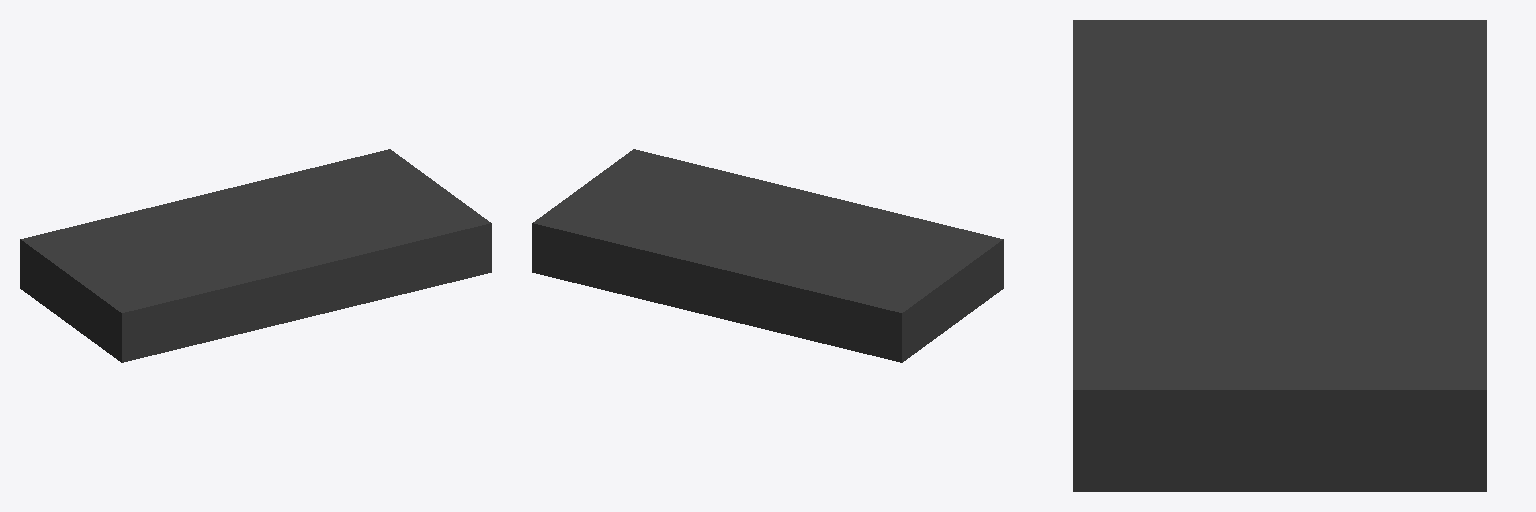
URDF robot description (box.urdf):
<?xml version="1.0" ?>
<robot name="box.urdf">
  <link name="baseLink">
    <contact>
      <lateral_friction value="1.0"/>
      <rolling_friction value="0.0001"/>
      <inertia_scaling value="3.0"/>
    </contact>
    <inertial>
      <origin rpy="0 0 0" xyz="0 0 0"/>
       <mass value="0.1"/>
       <inertia ixx="1" ixy="0" ixz="0" iyy="1" iyz="0" izz="1"/>
    </inertial>
    <visual>
      <origin rpy="0 0 0" xyz="0 0 0"/>
      <geometry>
        <!-- <box size="0.78 0.37 0.1"/> -->
        <mesh filename="box/box.obj" scale="0.78 0.37 0.1"/>
      </geometry>
      <material name="white">
        <color rgba="0.3 0.3 0.3 1"/>
      </material>
    </visual>
    <collision>
      <origin rpy="0 0 0" xyz="0 0 0"/>
      <geometry>
        <mesh filename="box/box.obj" scale="0.78 0.37 0.1"/>
	 	    <!-- <box size="0.78 0.37 0.1"/> -->
      </geometry>
    </collision>
  </link>
</robot>

--- Render facts (derived) ---
Views: 3 orthographic renders of the robot side by side, from view 1: azimuth 30°, elevation 25°; view 2: azimuth 150°, elevation 25°; view 3: azimuth 270°, elevation 25°.
Robot: box.urdf — 1 links, 0 joints (none); root link baseLink; default pose: every joint at zero.
Visible links, largest first — view 1: baseLink; view 2: baseLink; view 3: baseLink.
Link boxes in pixels (x1=…): baseLink: x1=20, y1=149, x2=491, y2=362; baseLink: x1=532, y1=149, x2=1003, y2=362; baseLink: x1=1073, y1=20, x2=1486, y2=491.
Size in the robot's own frame: 0.78 by 0.37 by 0.1 metres.
Meshes: 1 distinct files referenced, 1 mesh visuals loaded (1 OBJ).
